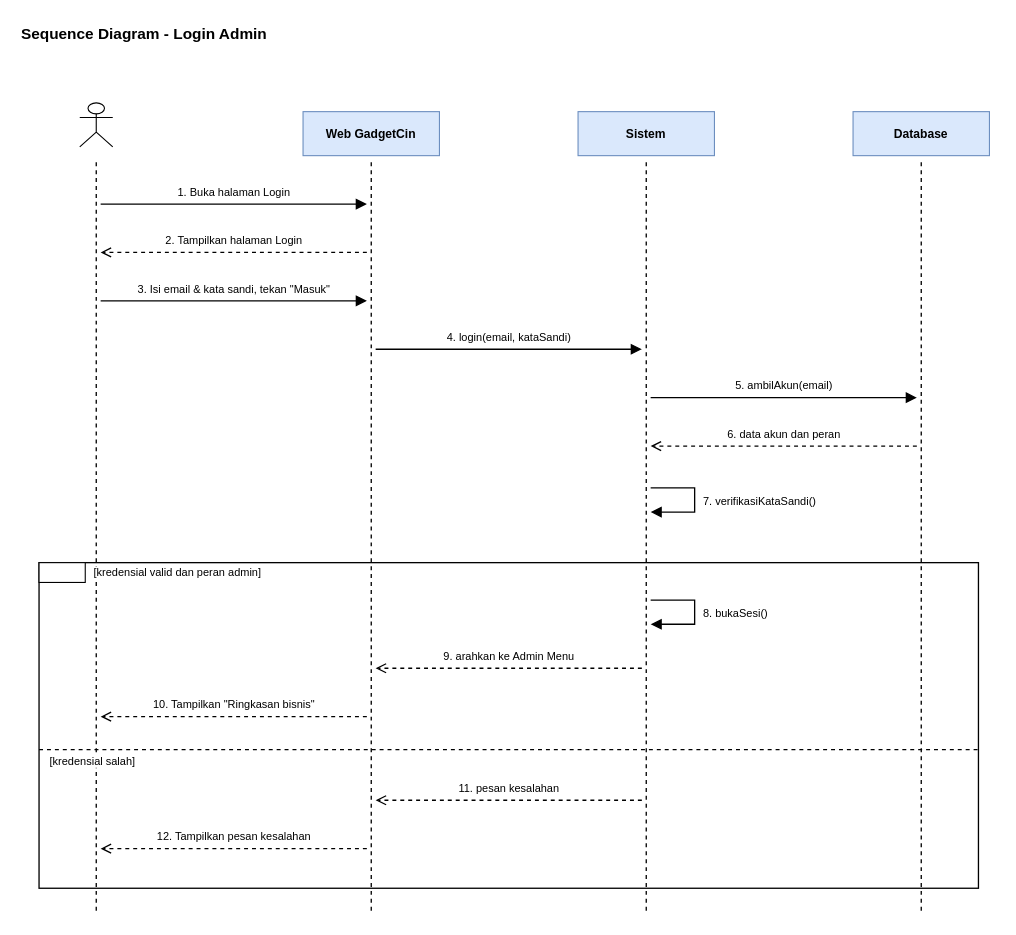
This 1016x935 diagram has some shape labels left out. The shapes that lost their labels are listed below. From the top down, each one's centre as x and y in pixels, then its label:
point 96,124: Admin
point 61,572: alt
